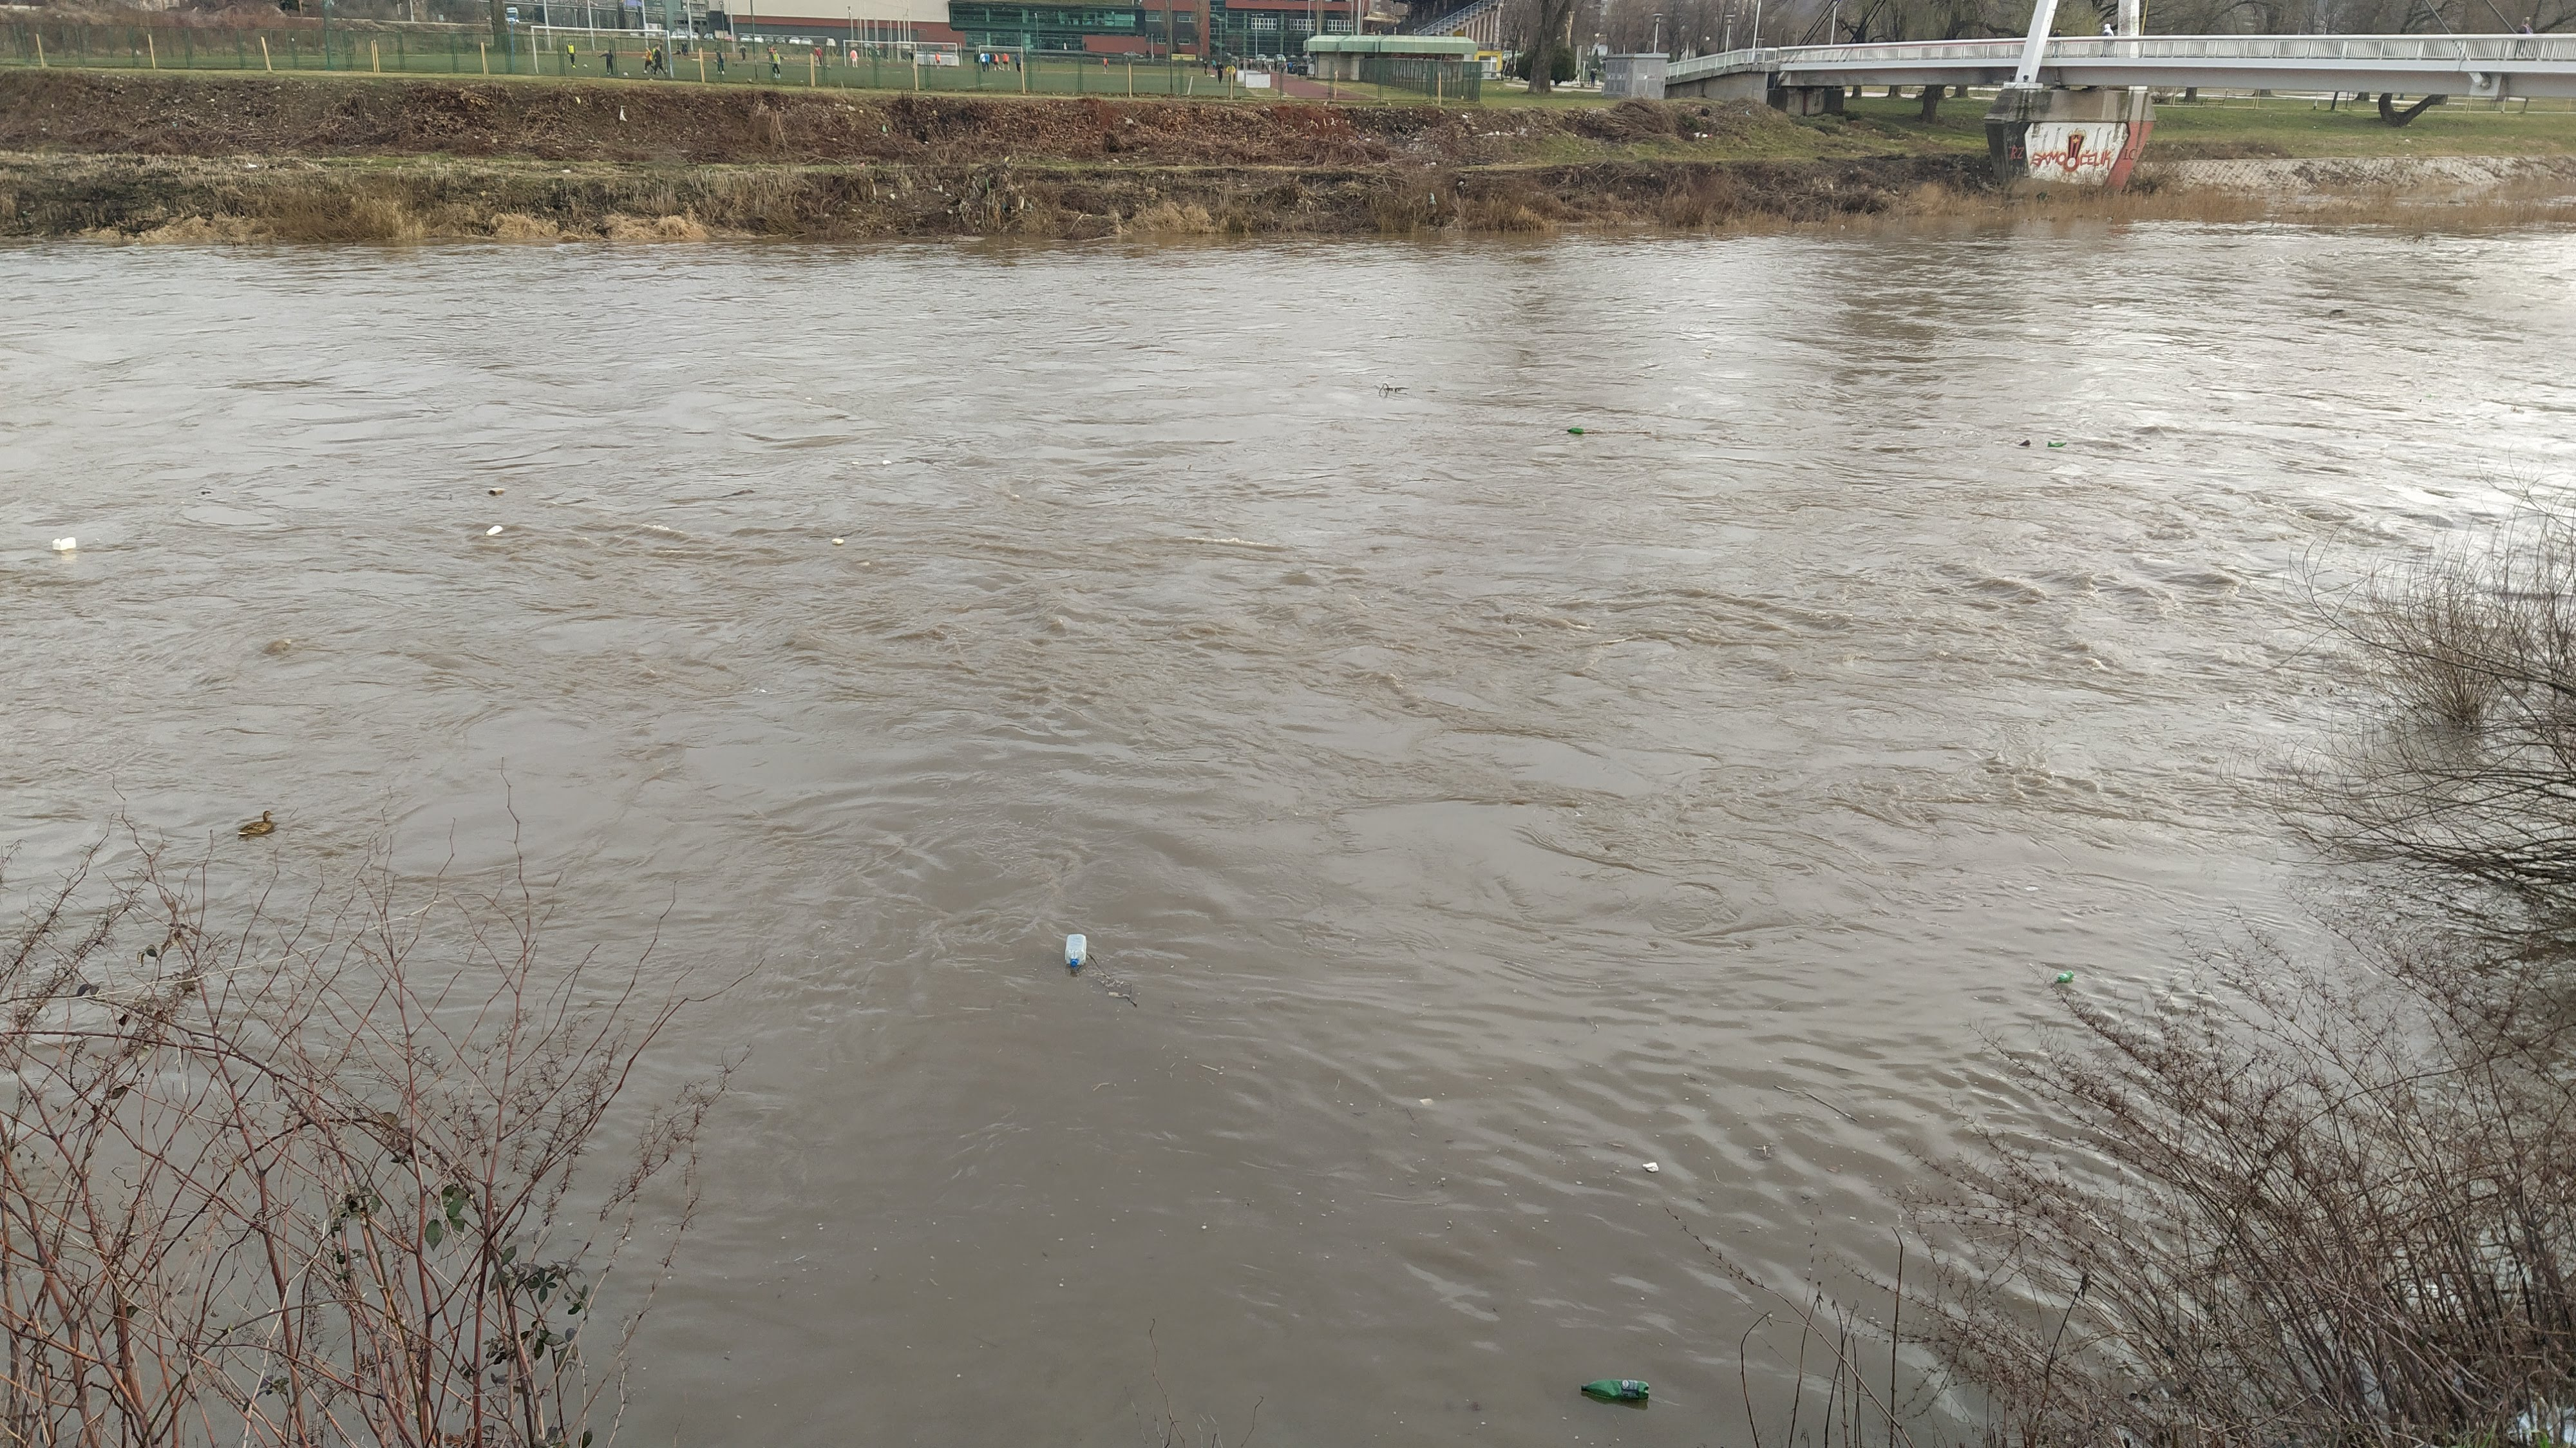Plastic Bottle: (1582, 1379, 1649, 1402), (1065, 933, 1088, 967), (2056, 970, 2074, 982), (485, 526, 502, 536), (2047, 441, 2065, 448), (490, 487, 504, 494), (1568, 427, 1582, 434), (2019, 439, 2029, 446), (832, 538, 842, 545)
